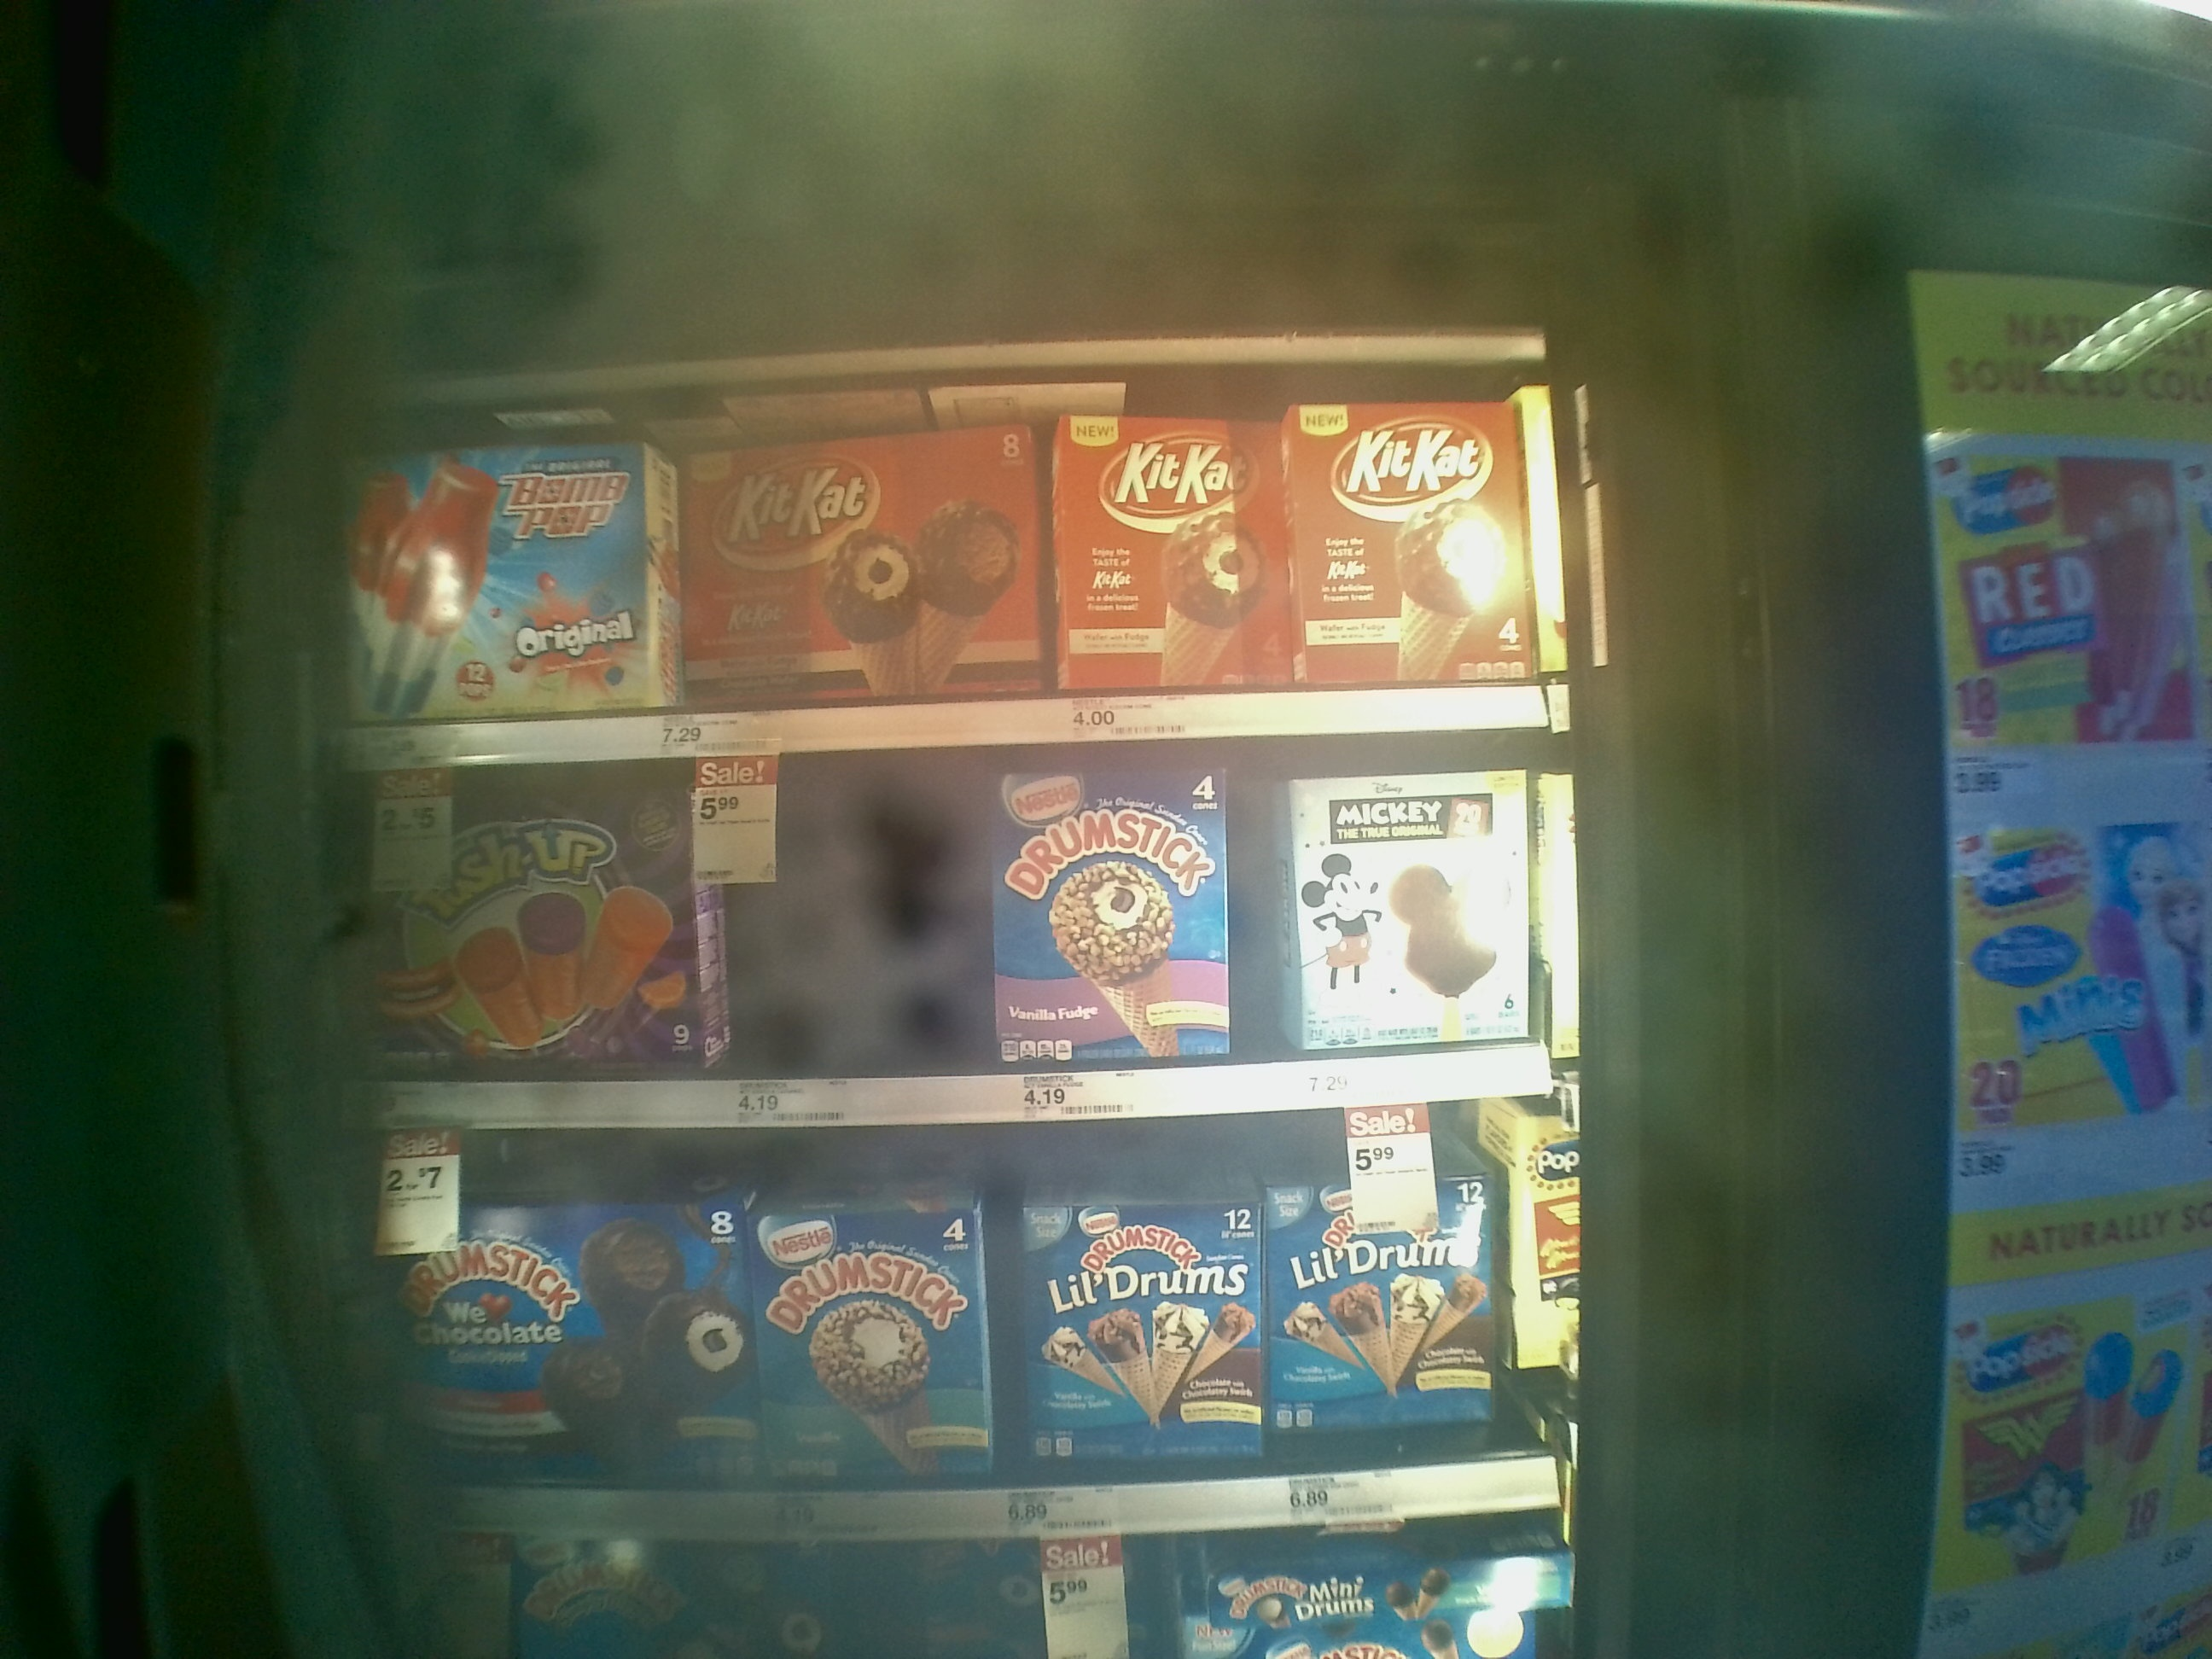shelf: (347, 1114, 1566, 1525), (341, 744, 1581, 1114), (340, 355, 1555, 730)
